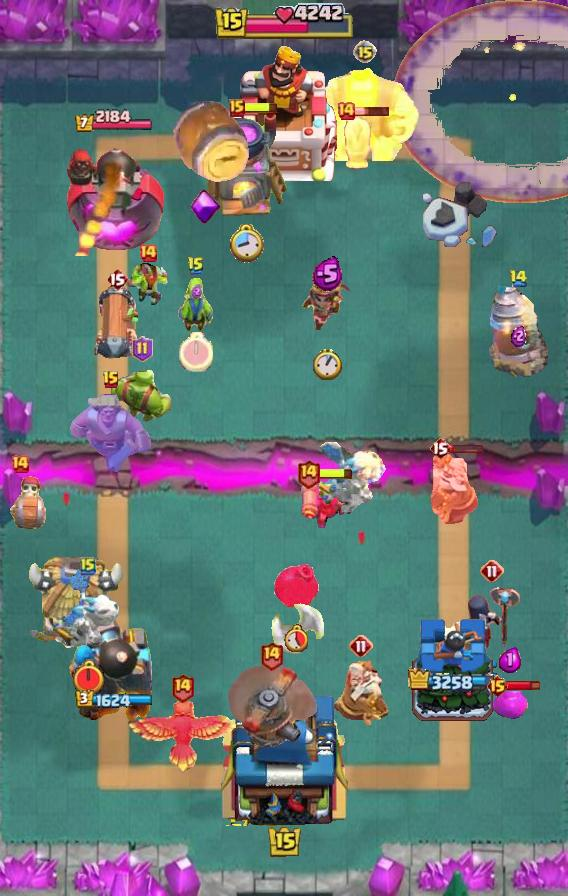baby-dragon: (273, 562, 319, 607)
battle-healer: (92, 283, 142, 371)
bomber-evolution: (300, 276, 354, 330)
clock: (213, 3, 355, 43)
dark-prince: (223, 665, 319, 747)
dirt: (170, 98, 252, 184)
electro-spirit: (313, 256, 343, 292), (499, 647, 521, 673), (511, 325, 525, 347), (190, 285, 201, 300)
elixir: (229, 224, 264, 264), (179, 332, 213, 372), (71, 659, 106, 697), (314, 348, 343, 380), (284, 624, 308, 652)
elixir-collector: (427, 446, 481, 526), (331, 655, 391, 725)
emote: (506, 679, 541, 693), (243, 102, 279, 115), (318, 468, 354, 481), (354, 105, 391, 117), (449, 442, 484, 454)
executioner: (342, 113, 374, 173)
flying-machine: (110, 366, 174, 424)
giant-skeleton: (310, 67, 420, 161)
goblin-hut: (68, 394, 154, 474)
golden-knight: (127, 700, 237, 776)
hunter: (201, 112, 291, 220)
king-tower: (214, 684, 354, 826), (231, 43, 337, 181)
knight: (0, 476, 50, 532)
magic-archer: (488, 286, 548, 378)
miner: (492, 691, 528, 721)
mini-pekka: (319, 438, 389, 520), (53, 567, 123, 649)
prince: (24, 557, 126, 653)
queen-tower: (409, 616, 497, 731)
rascal-boy: (462, 584, 522, 658)
rocket: (392, 0, 568, 204)
royal-giant: (270, 593, 326, 655)
selected: (408, 669, 498, 696), (74, 110, 154, 135), (75, 689, 153, 709)
skeleton-king-skill: (189, 188, 223, 226)
text: (295, 459, 320, 490), (259, 641, 284, 672), (170, 672, 195, 703), (353, 40, 377, 64), (480, 559, 504, 583), (349, 634, 373, 658), (131, 336, 153, 362), (487, 674, 510, 698), (106, 267, 128, 291), (429, 436, 451, 460), (336, 101, 356, 121), (138, 243, 158, 263), (10, 454, 30, 474), (187, 256, 205, 276), (102, 370, 120, 390), (509, 269, 528, 287), (80, 556, 96, 576), (229, 99, 245, 117)
tombstone: (300, 478, 348, 528)
tower-bar: (63, 138, 164, 256), (64, 615, 164, 731)
zap: (177, 275, 215, 333), (125, 261, 171, 307)
